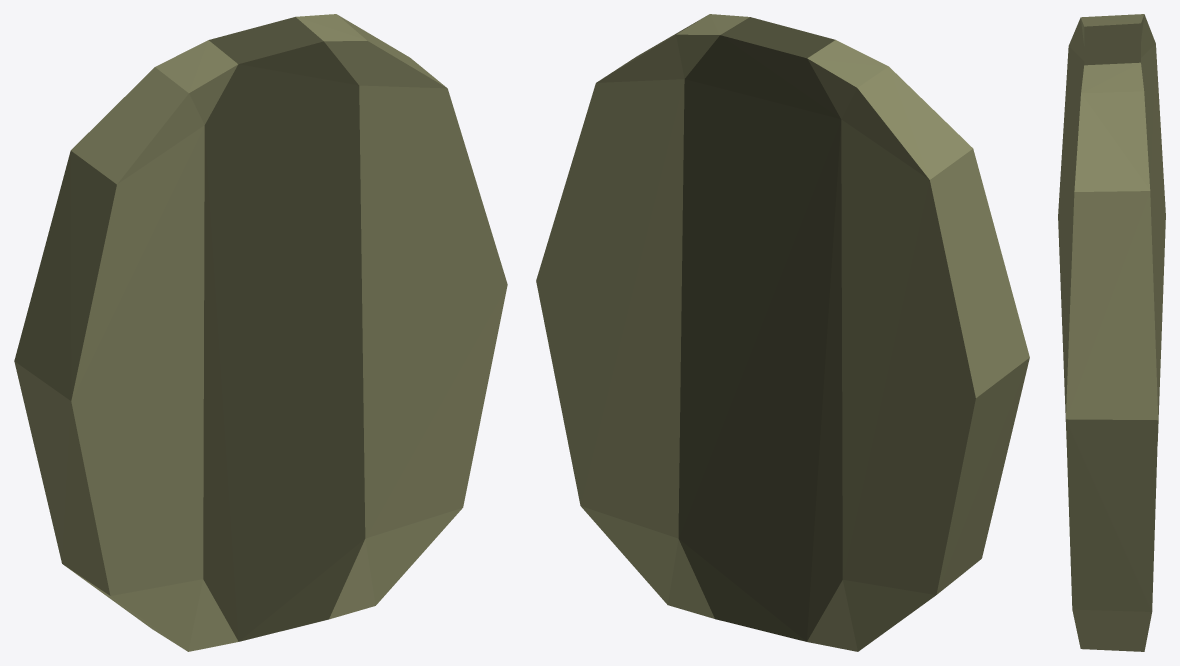
The model's file is Carrot_0.fbx.
3 renders of one model, left to right at view 1: azimuth 30°, elevation 25°; view 2: azimuth 150°, elevation 25°; view 3: azimuth 270°, elevation 25°, orthographic. The views are drawn at different scales.
Parts seen in each view (by area): view 1: Carrot_0; view 2: Carrot_0; view 3: Carrot_0.
Part boxes in pixels (<box>): Carrot_0: <box>14,14,507,651</box>; Carrot_0: <box>536,14,1029,651</box>; Carrot_0: <box>1058,14,1165,651</box>.
Size of the model in its own units: 6.2 by 7.82 by 1.34.
